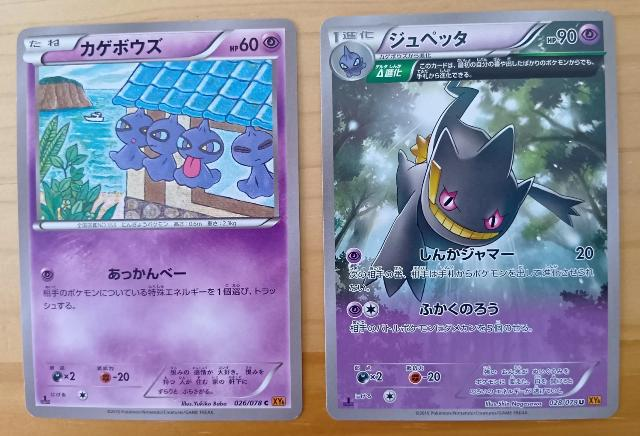Card: (317, 6, 622, 427), (12, 14, 308, 426)
Name: (385, 25, 476, 55), (75, 35, 167, 60)
